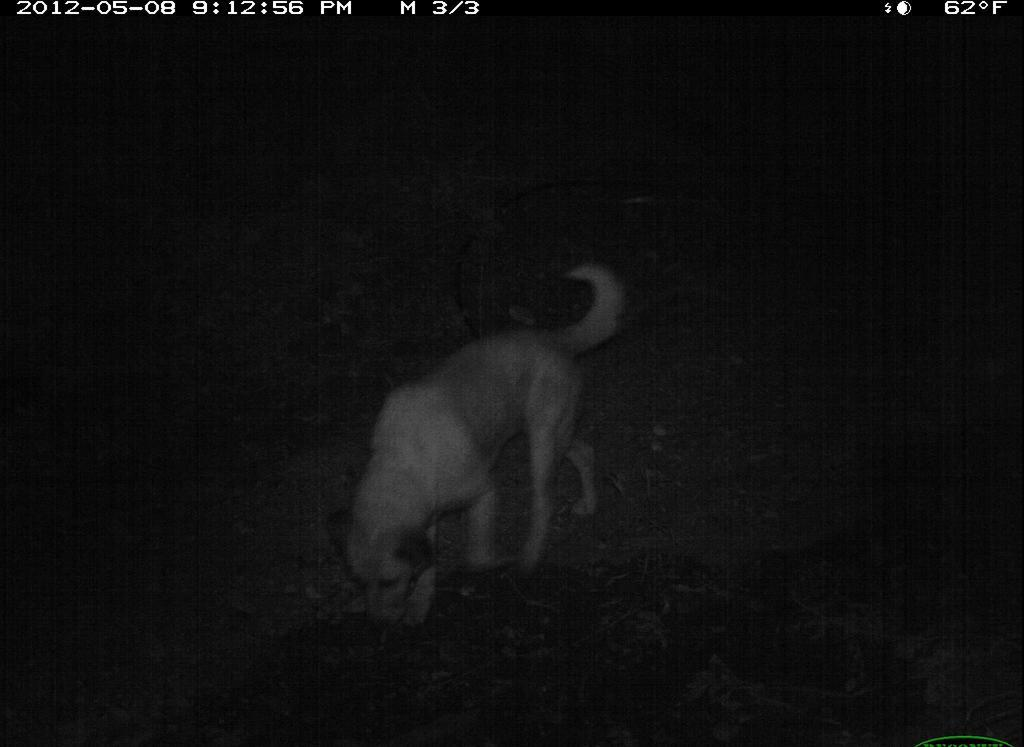dog: (308, 253, 633, 639)
